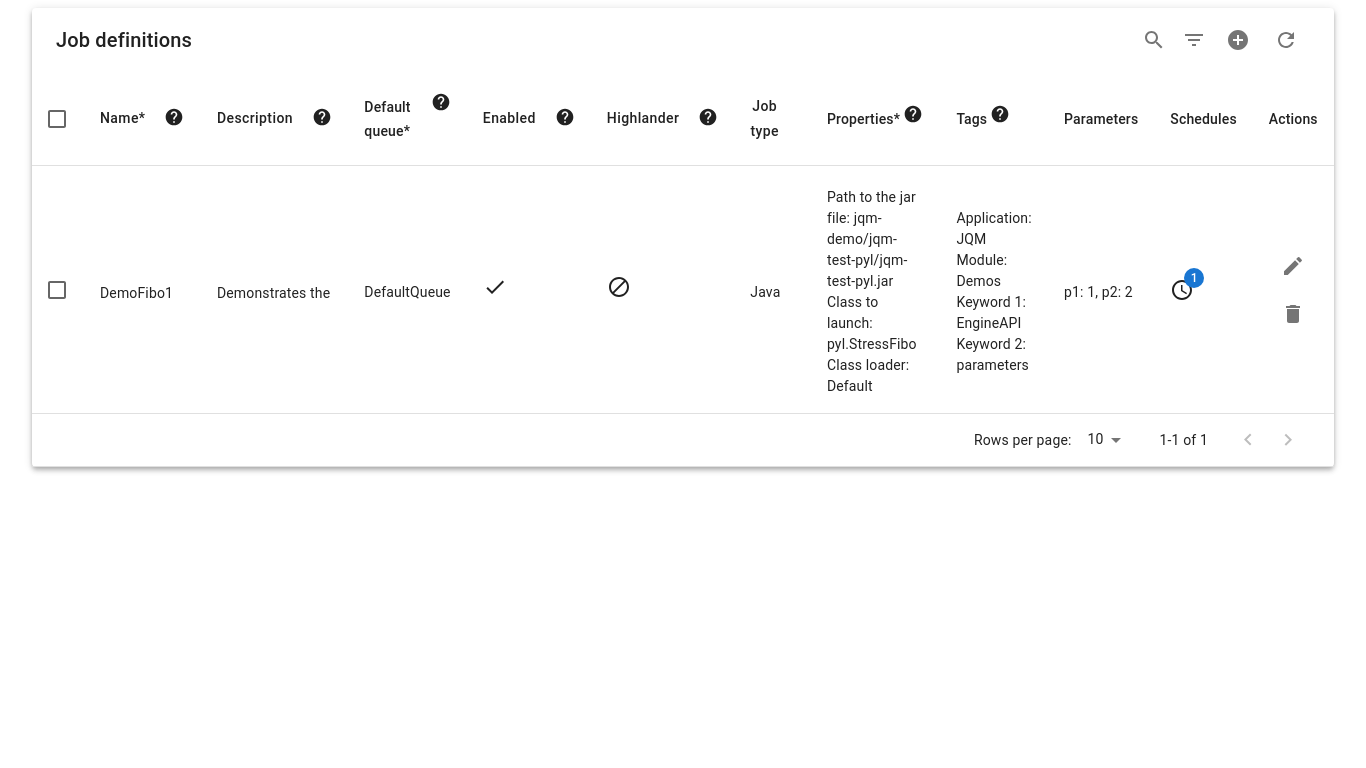
Scenario: JobDefinitionsPage › opens the view schedules dialog
Check: the 1st field showing "DemoFibo1" is shown, box left=100, top=279, right=185, bottom=308
Click the icon with test id "ScheduleIcon": (1182, 290) left=1170, top=278, right=1194, bottom=302
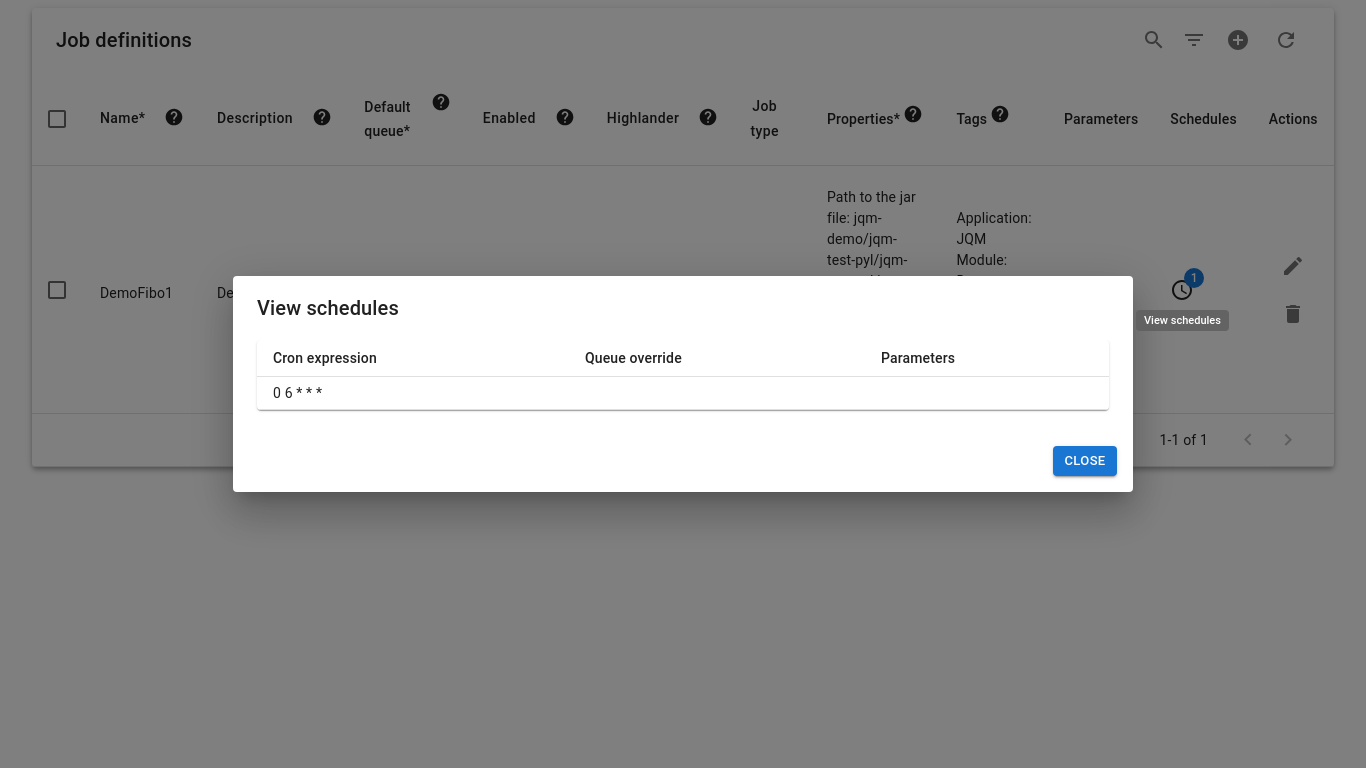
Check: the heading "View schedules" is shown, box left=257, top=296, right=399, bottom=320
Check: the column heading "0 6 * * *" is shown, box left=257, top=376, right=569, bottom=409
